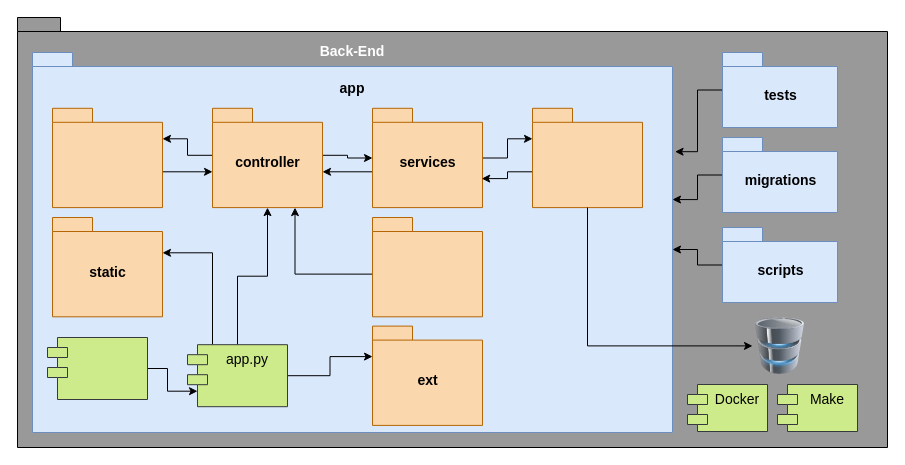
Some shapes in this 905 by 465 pixel diagram are drawn without their labels. The centre of each missing label's shape, as x and y in pixels:
"config.py" goes at (97,368).
"docs" goes at (427,266).
"model" goes at (587,157).
"schemas" goes at (107,157).
